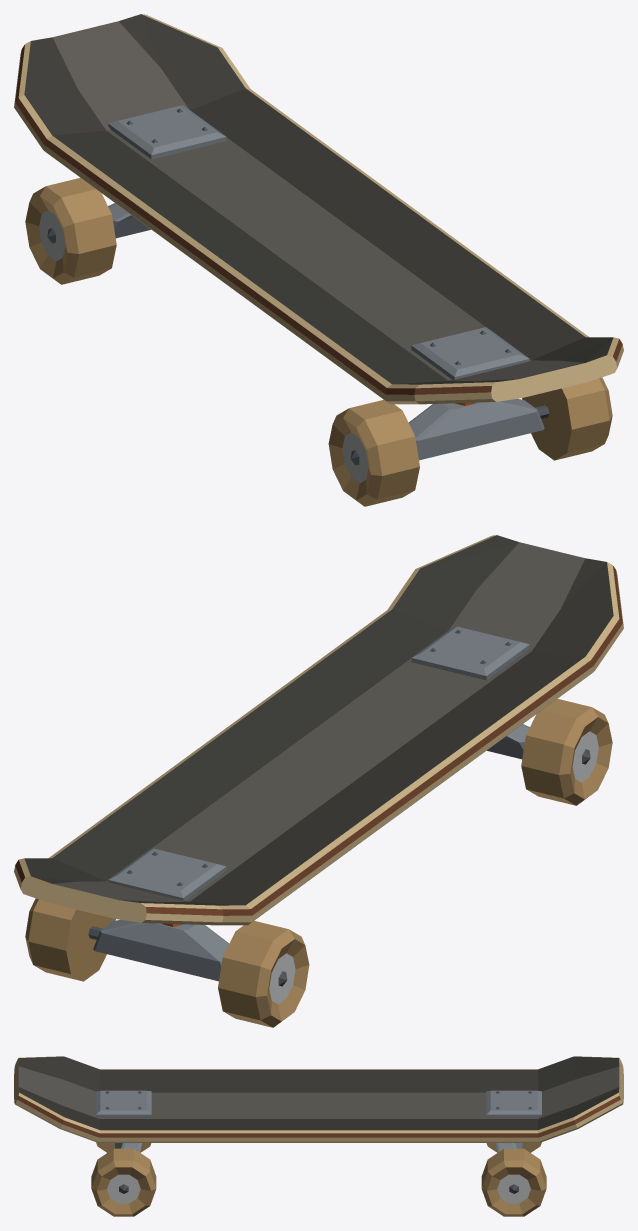
The model's file is cruiser-and-longboard-b3d081.glb.
3 views of the same model, one above another, from view 1: azimuth 30°, elevation 25°; view 2: azimuth 150°, elevation 25°; view 3: azimuth 270°, elevation 25° (orthographic). The views are drawn at different scales.
Parts seen in each view (by area): view 1: deck, wheel-fr-mesh, wheel-rr-mesh, front-truck-mesh, wheel-fl-mesh, rear-truck-mesh; view 2: deck, wheel-rr-mesh, wheel-fr-mesh, rear-truck-mesh, wheel-rl-mesh, front-truck-mesh; view 3: deck, wheel-fl-mesh, wheel-rl-mesh.
Part boxes in pixels (left/top/right/bottom): deck: left=14, top=14, right=623, bottom=405; wheel-fr-mesh: left=328, top=399, right=419, bottom=506; wheel-rr-mesh: left=25, top=177, right=116, bottom=284; front-truck-mesh: left=408, top=398, right=549, bottom=460; wheel-fl-mesh: left=522, top=377, right=612, bottom=460; rear-truck-mesh: left=108, top=203, right=150, bottom=238; deck: left=14, top=535, right=623, bottom=926; wheel-rr-mesh: left=218, top=920, right=309, bottom=1027; wheel-fr-mesh: left=521, top=698, right=612, bottom=805; rear-truck-mesh: left=88, top=919, right=229, bottom=981; wheel-rl-mesh: left=25, top=898, right=115, bottom=981; front-truck-mesh: left=487, top=724, right=529, bottom=759; deck: left=14, top=1056, right=623, bottom=1142; wheel-fl-mesh: left=91, top=1148, right=156, bottom=1216; wheel-rl-mesh: left=481, top=1148, right=546, bottom=1216.
Size of the model in its own units: 0.29 by 0.1884 by 0.9849.
